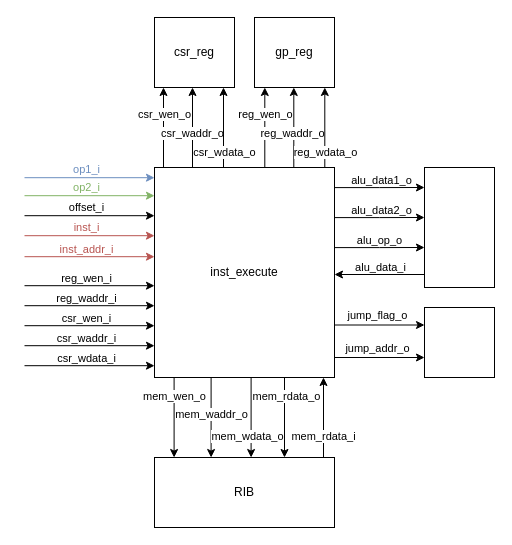
The diagram is 512 pixels wide and 545 high, and some of its shapes have lost their labels. The shapes that lost their labels are listed below. From the top down, each one's centre as x and y in pixels, then its label:
At (459,227): "alu".
At (459,342): "ctrl".
